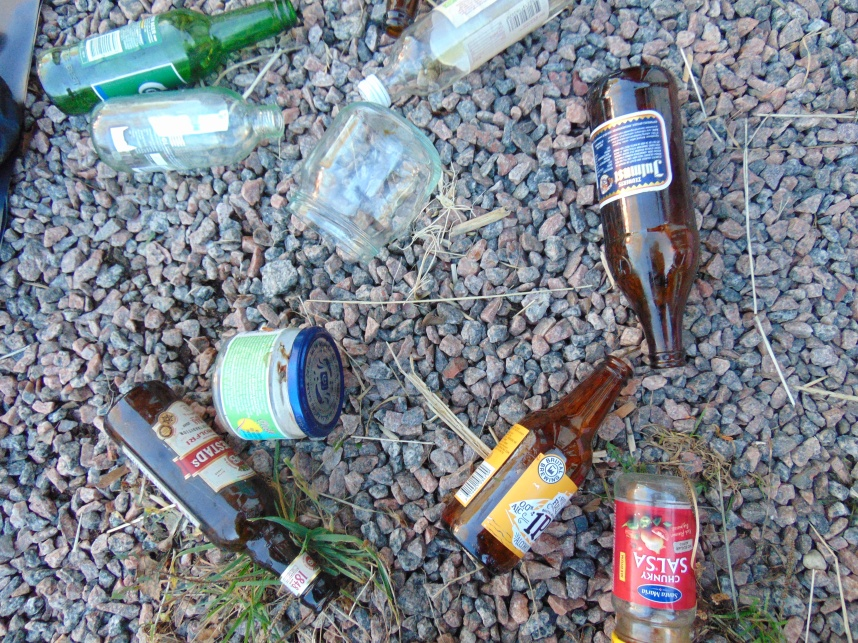glass_bottle: (103, 380, 339, 613), (440, 354, 631, 572), (586, 64, 703, 370), (34, 1, 302, 122), (288, 100, 444, 256), (357, 1, 577, 109), (607, 468, 701, 643), (213, 324, 344, 445), (89, 90, 281, 168)
